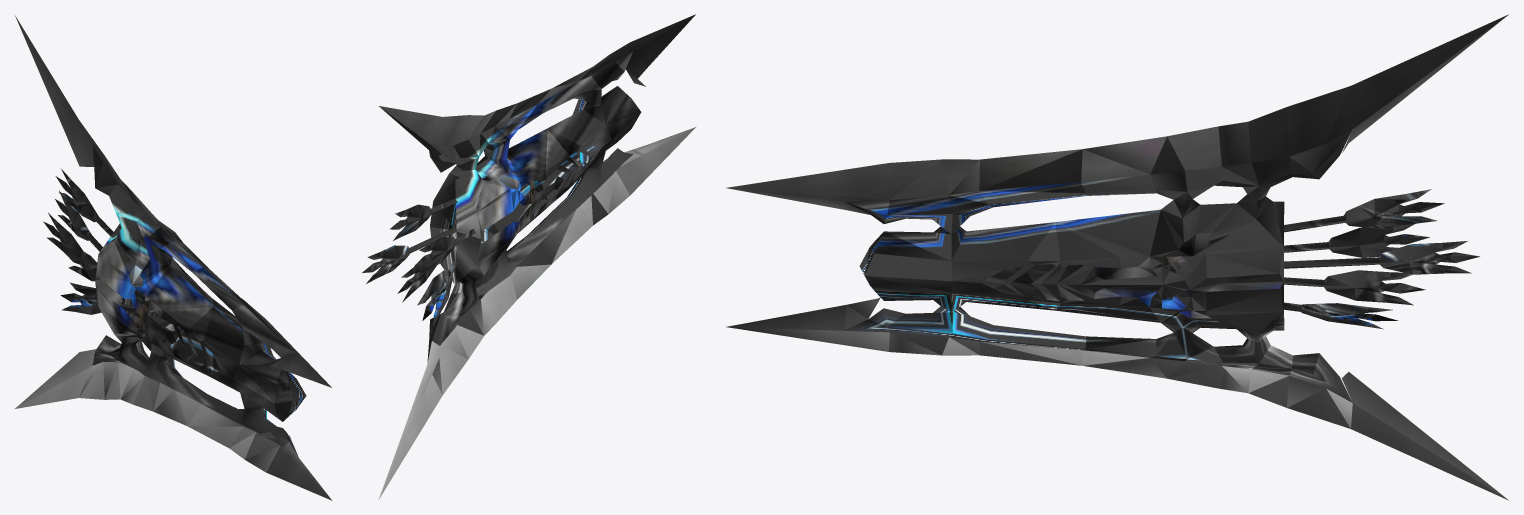
Rendered from xuelangjiantong001.FBX.
3 views of the same model, side by side, from view 1: azimuth 30°, elevation 25°; view 2: azimuth 150°, elevation 25°; view 3: azimuth 270°, elevation 25° (orthographic). The views are drawn at different scales.
Visible parts, largest first — view 1: SMDImport; view 2: SMDImport; view 3: SMDImport.
Boxes of the visible parts, bbox=[...] form: SMDImport: bbox=[15, 15, 332, 500]; SMDImport: bbox=[362, 14, 695, 499]; SMDImport: bbox=[726, 14, 1508, 500].
Bounding box in the file's own units: 19.33 × 107 × 156.
